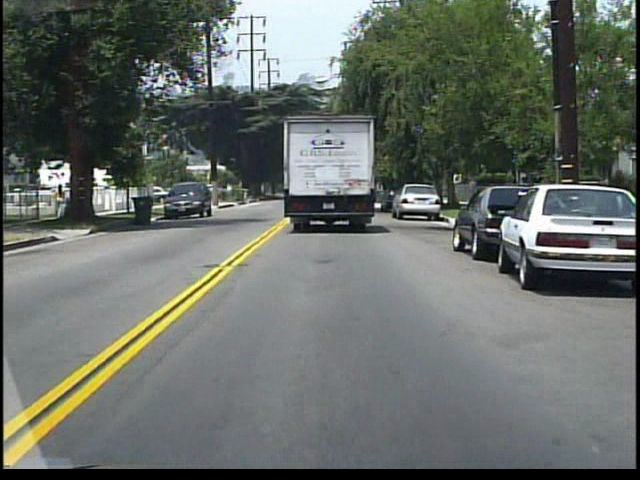person: (56, 181, 70, 217)
